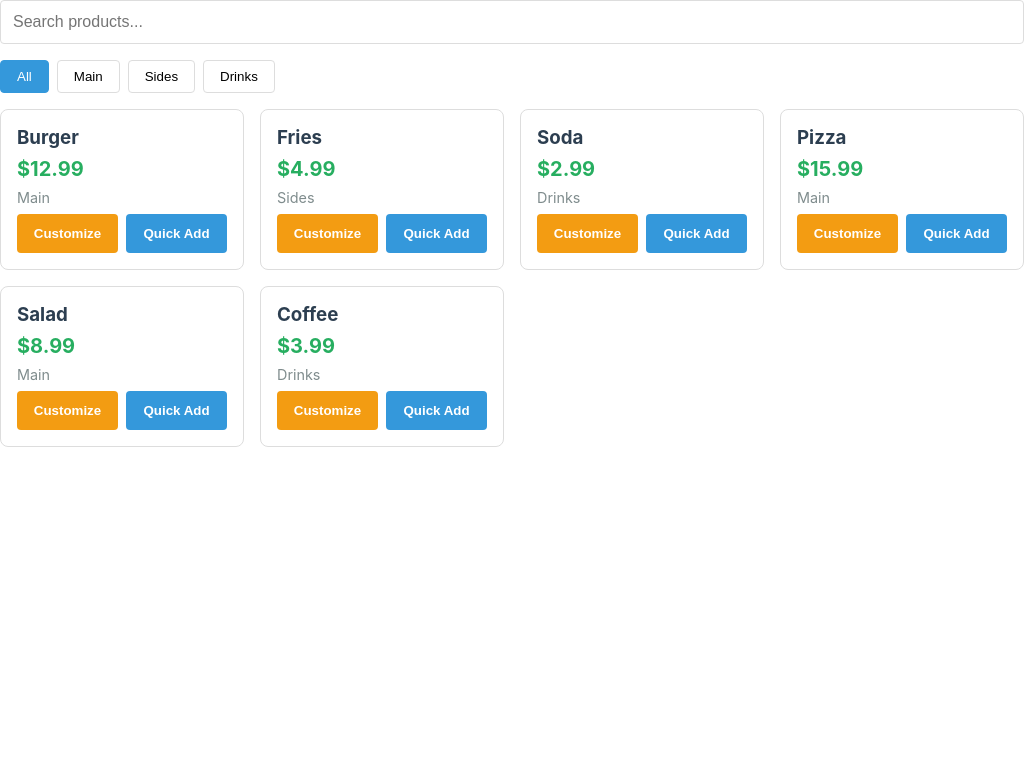
ProductCatalog Component › opens customization modal
Expected: the heading "Burger" is shown, [17,126,79,149]
What coordinates should you click on to do the following:
click the button "Customize" below "12.99"
I would click on:
 (68, 234)
Its box is [17,214,118,253].
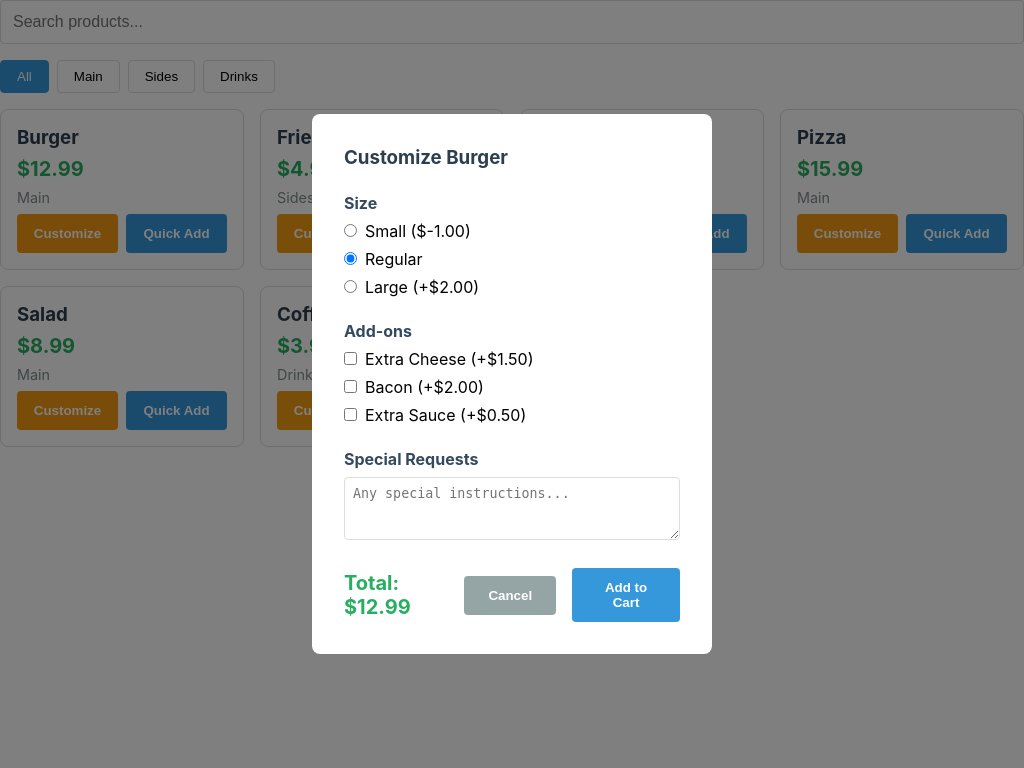
Expected: the heading "Customize Burger" is shown, [344,146,508,169]
